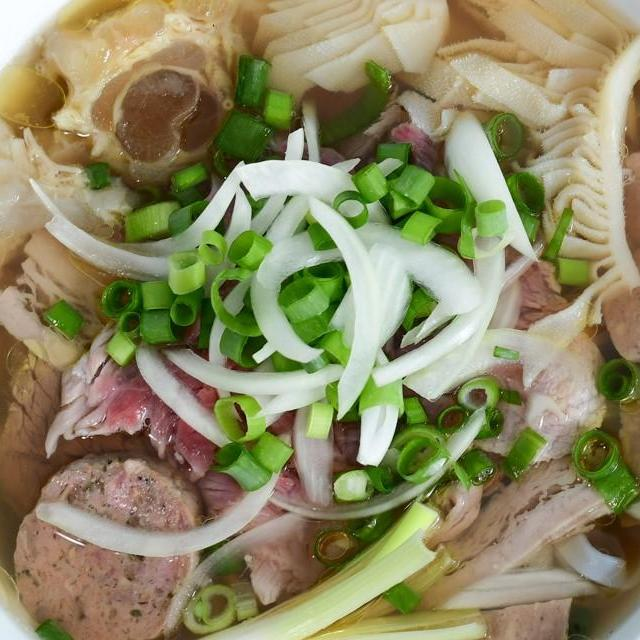banh pho: (429, 499, 640, 624)
pho bo: (0, 0, 640, 640)
thit bo: (363, 113, 617, 474), (182, 356, 410, 616), (41, 259, 279, 491), (0, 331, 198, 528)
